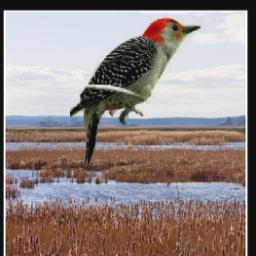Woodpecker: (70, 16, 201, 166)
